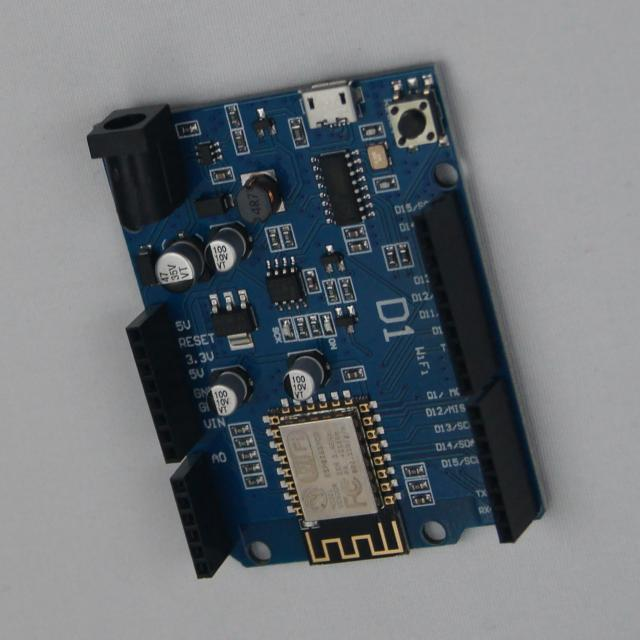Arduino Uno WiFi Shield: (88, 65, 544, 578)
